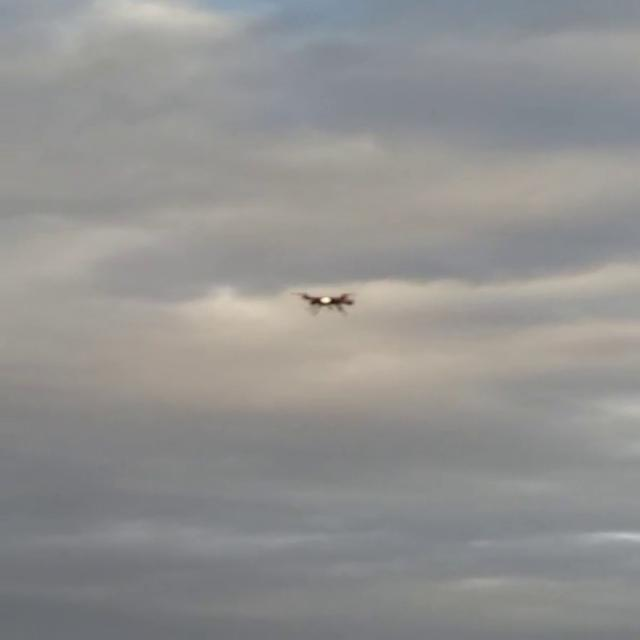drone: (292, 289, 360, 316)
